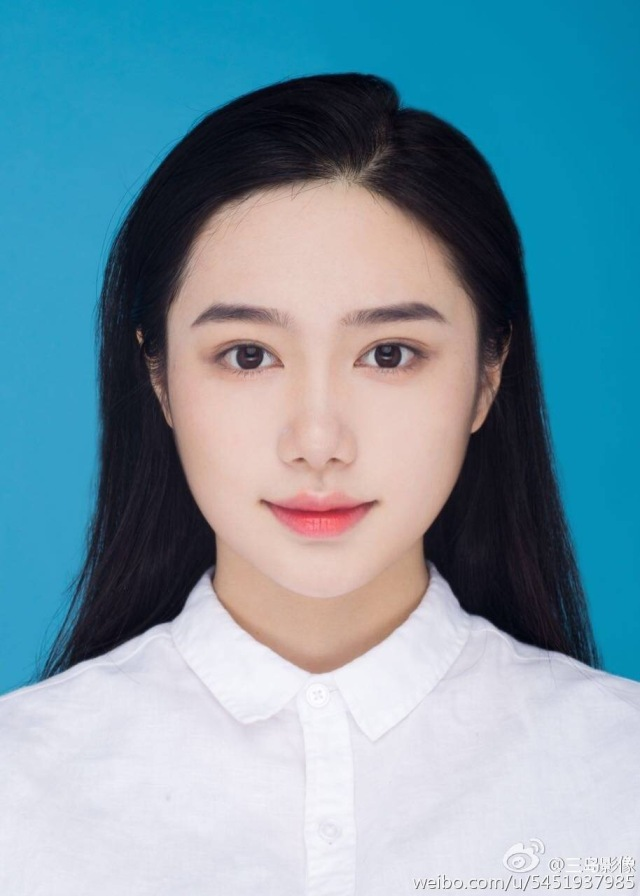unmask: (179, 235, 504, 559)
